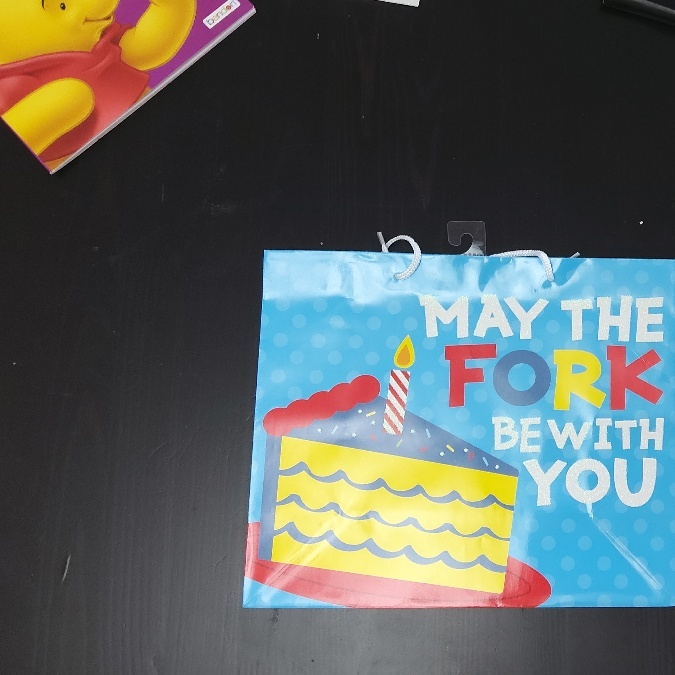paper_bag: (265, 251, 671, 609)
